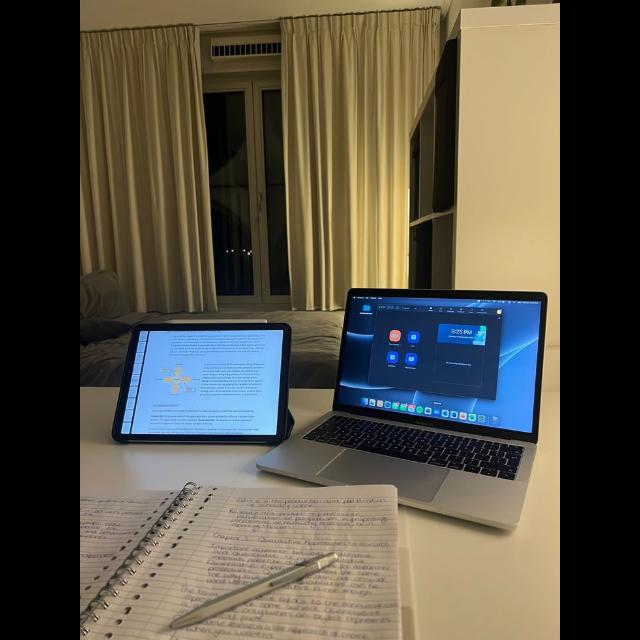laptop: (257, 290, 547, 528)
